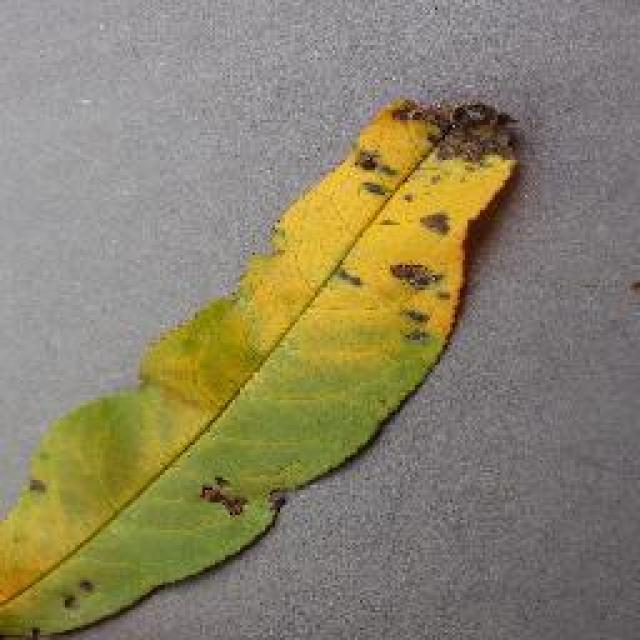Peach_Bacterial_Spot: (336, 138, 496, 354)
